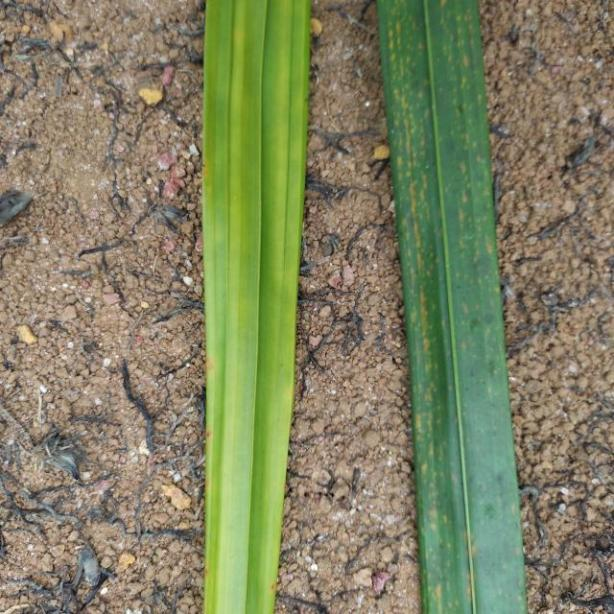nitrogen: (375, 0, 520, 614), (195, 0, 312, 614)
